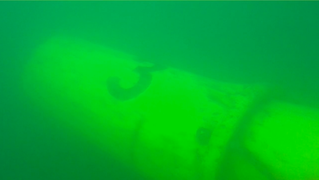3: (106, 57, 168, 100)
pipe: (22, 33, 319, 180)
